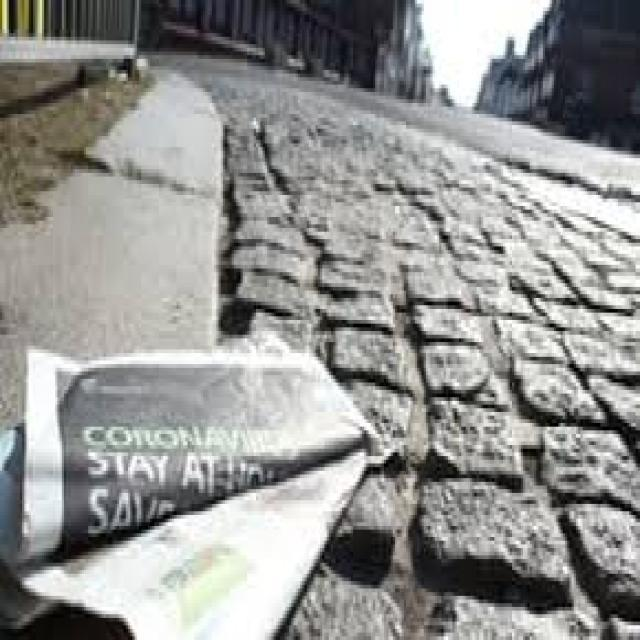Newspaper: (8, 301, 386, 640)
